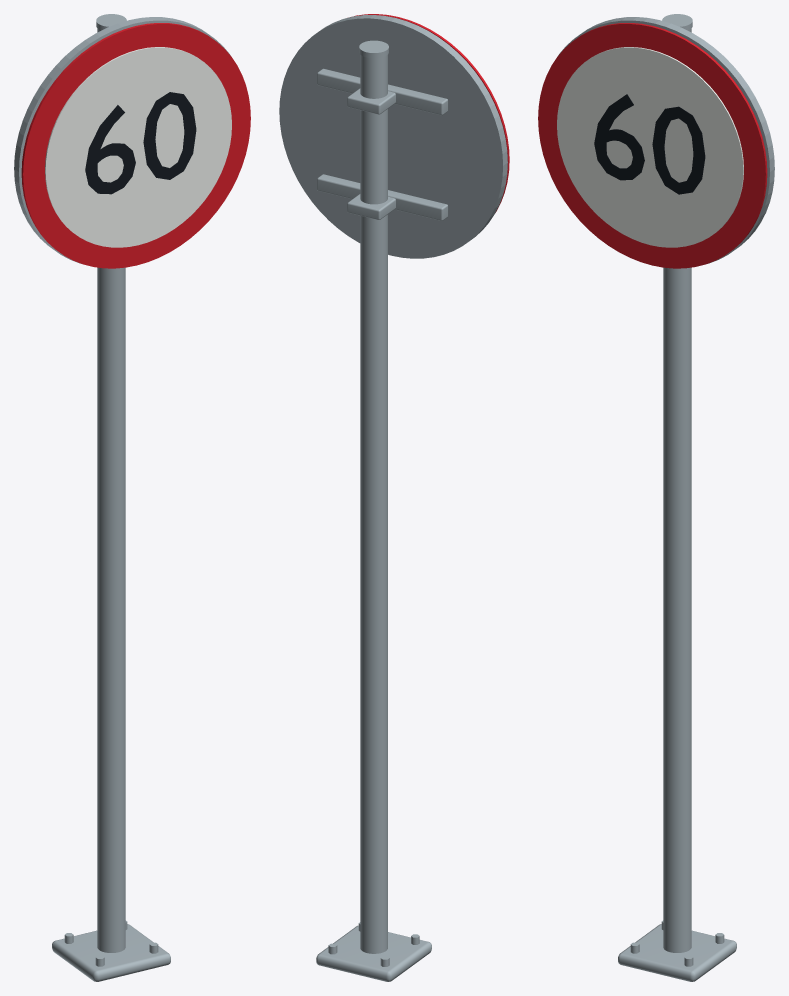
Rendered from DS_Sign_Speed60.fbx.
3 views of the same model, side by side, from view 1: azimuth 30°, elevation 25°; view 2: azimuth 150°, elevation 25°; view 3: azimuth 330°, elevation 25° (orthographic). The views are drawn at different scales.
Visible parts, largest first — view 1: Face_Field.005, Post.005, Face_Border.005, Legend_60, BasePlate.005, Plate_Back.005; view 2: Plate_Back.005, Post.005, BasePlate.005, RearRail.011, RearRail.010, PostClamp.011, PostClamp.010, Face_Border.005; view 3: Face_Field.005, Post.005, Face_Border.005, Legend_60, BasePlate.005, Plate_Back.005.
Boxes of the visible parts, x1,y1,x2,y2 form: Face_Field.005: (45,47,231,247); Post.005: (97,28,125,952); Face_Border.005: (21,23,250,268); Legend_60: (85,92,196,194); BasePlate.005: (52,924,170,981); Plate_Back.005: (14,17,230,263); Plate_Back.005: (279,15,507,258); Post.005: (360,55,387,953); BasePlate.005: (316,925,431,981); RearRail.011: (317,68,448,115); RearRail.010: (317,174,448,220); PostClamp.011: (347,88,395,114); PostClamp.010: (347,194,395,219); Face_Border.005: (354,14,509,212); Face_Field.005: (557,47,743,247); Post.005: (663,28,691,952); Face_Border.005: (538,23,767,268); Legend_60: (594,94,705,194); BasePlate.005: (618,924,736,981); Plate_Back.005: (558,17,774,263).
Bounding box in the file's own units: 71 × 281 × 27.27.
